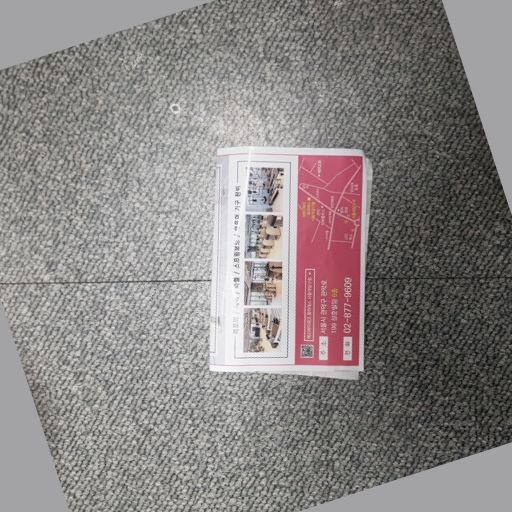Paper_2: (206, 139, 393, 389)
